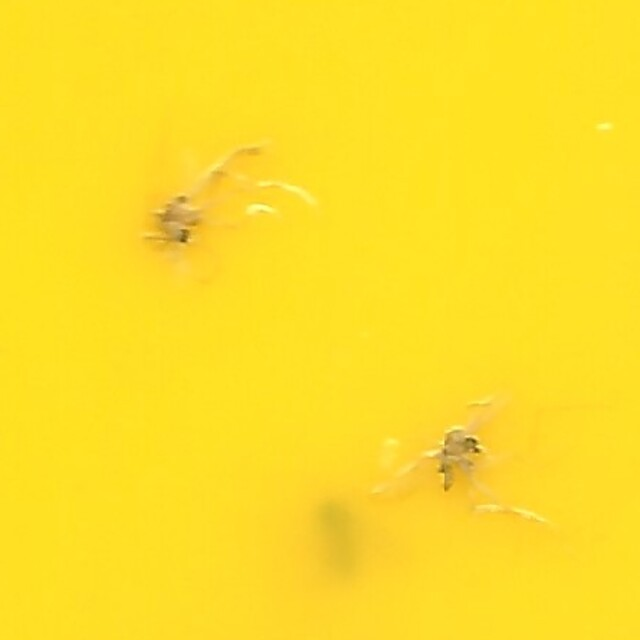Nematocera: (144, 141, 262, 256), (426, 419, 496, 499)
